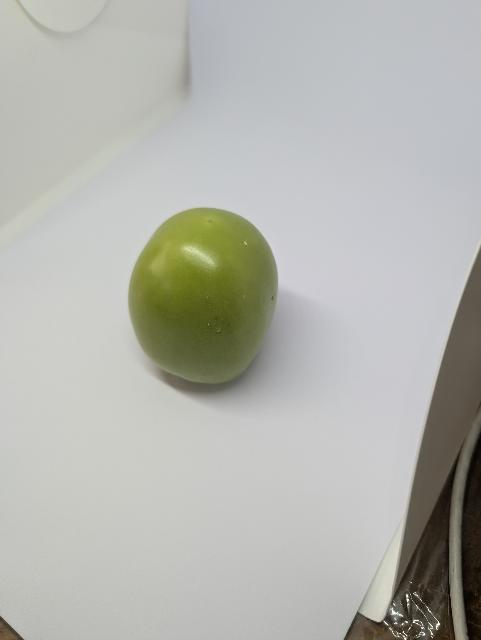green: (124, 205, 282, 387)
